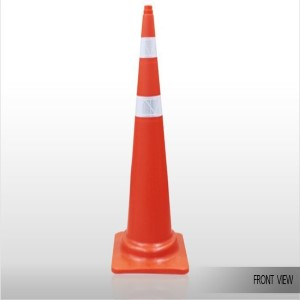traffic cone: (112, 5, 189, 275)
